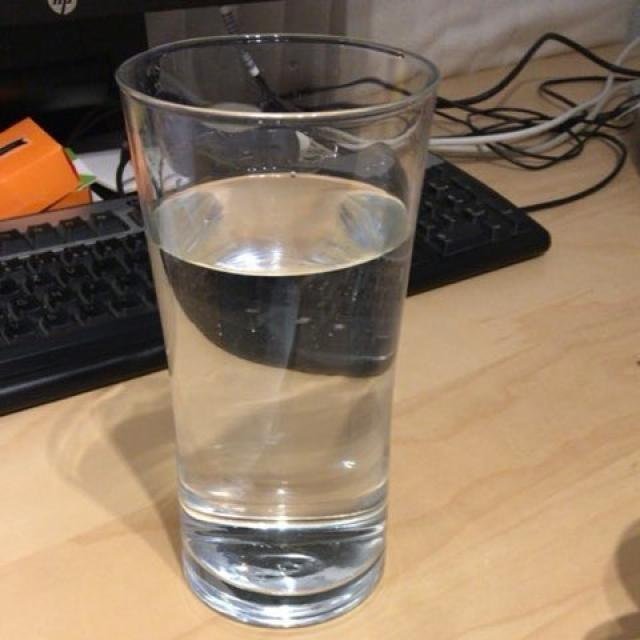water: (149, 179, 407, 509)
